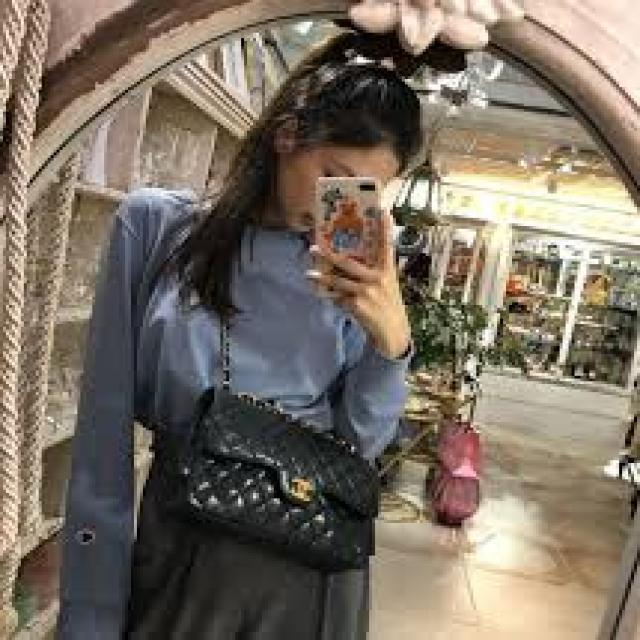Phone: (311, 176, 386, 294)
